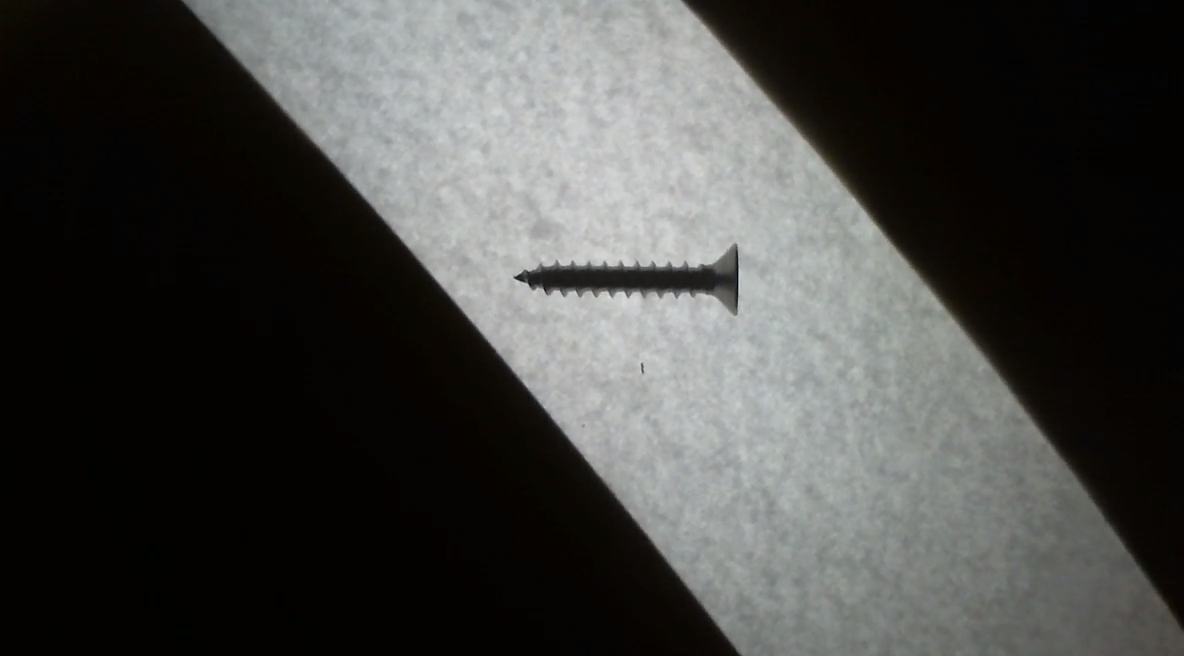S001: (494, 219, 765, 332)
